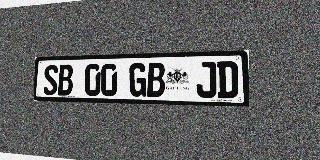0: (101, 63, 117, 96), (85, 64, 101, 96)
B: (147, 62, 165, 97), (58, 64, 73, 96)
D: (217, 61, 238, 98)
G: (129, 63, 147, 97)
J: (196, 61, 216, 98)
S: (43, 65, 58, 95)
